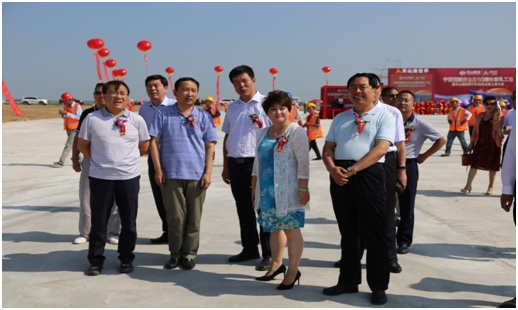none: (346, 73, 376, 109), (227, 64, 255, 100), (263, 90, 290, 126), (101, 79, 130, 112), (172, 76, 200, 107), (143, 74, 169, 102), (394, 89, 414, 115), (380, 84, 399, 105), (93, 83, 105, 107), (483, 95, 497, 113)
red: (59, 92, 74, 106)
yellow: (305, 102, 315, 115), (449, 96, 459, 108), (472, 94, 482, 105), (204, 95, 213, 107)
